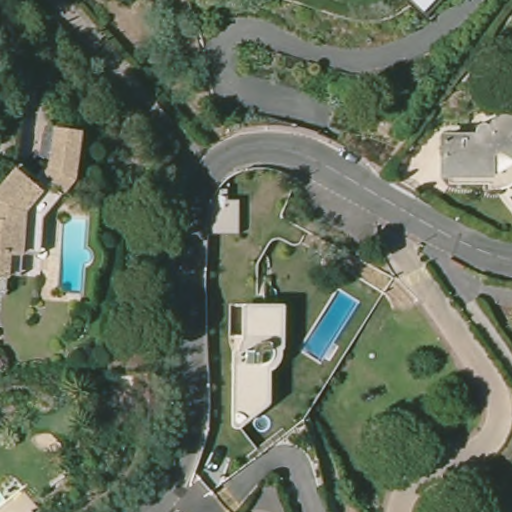pool: (303, 289, 359, 366), (55, 212, 95, 299)
